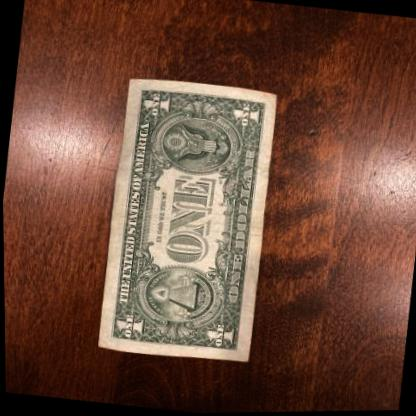one-back: (92, 74, 284, 368)
